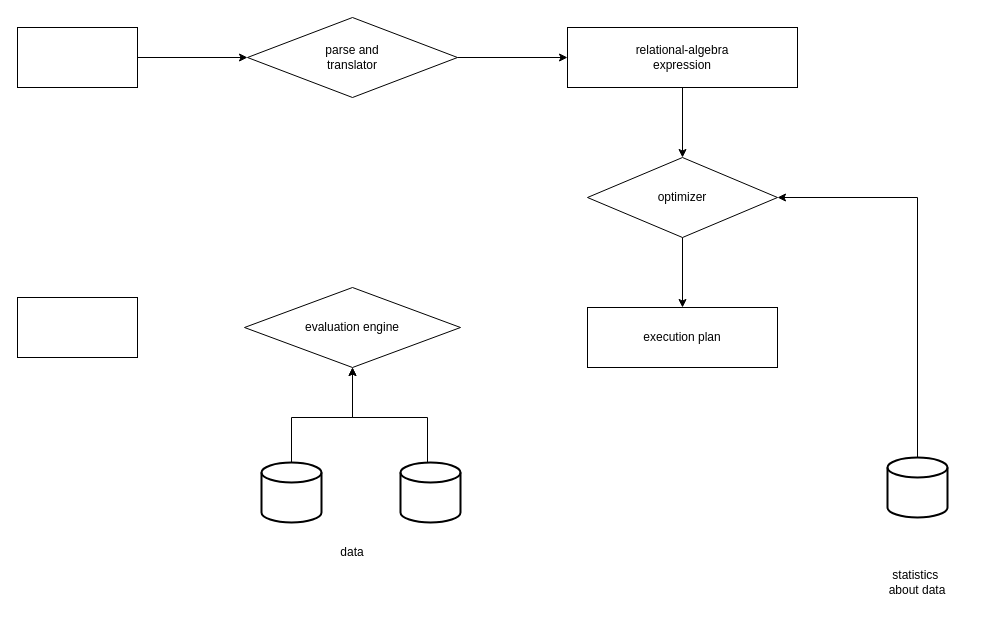
This 990x635 diagram has some shape labels left out. Here are the shapes that lost their labels. From the top down, the box of each, then its label:
(16, 26, 138, 88): query
(16, 296, 138, 358): query output
